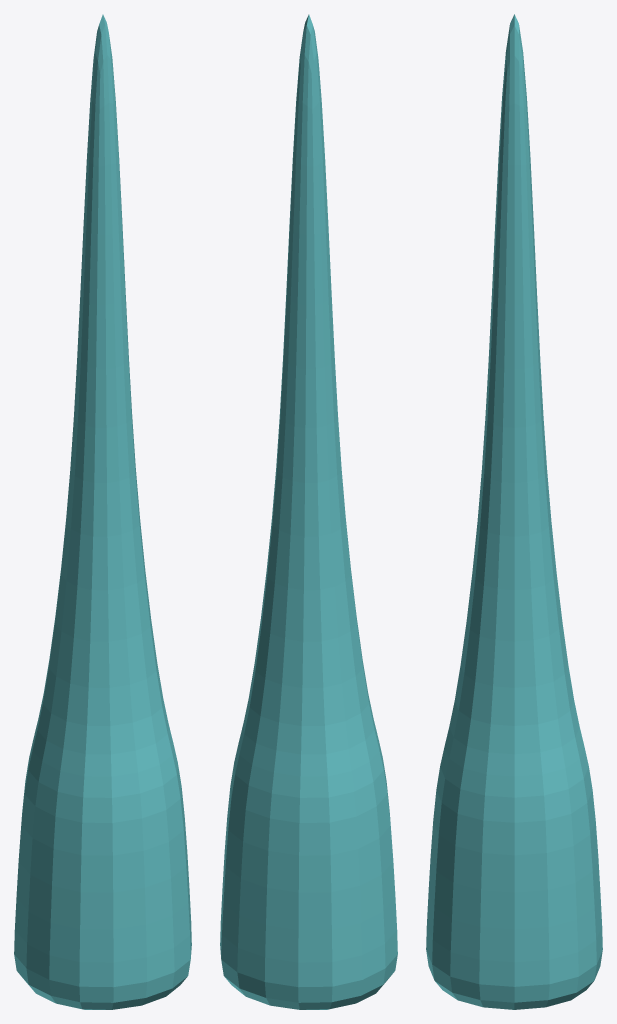
Rendered from ice.fbx.
3 renders of one model, left to right at view 1: azimuth 30°, elevation 25°; view 2: azimuth 150°, elevation 25°; view 3: azimuth 270°, elevation 25°, orthographic.
Visible parts, largest first — view 1: Cube; view 2: Cube; view 3: Cube.
Boxes of the visible parts, bbox=[...] form: Cube: bbox=[14, 14, 191, 1009]; Cube: bbox=[220, 14, 397, 1009]; Cube: bbox=[426, 14, 602, 1009].
Bounding box in the file's own units: 24.11 × 147 × 24.11.
